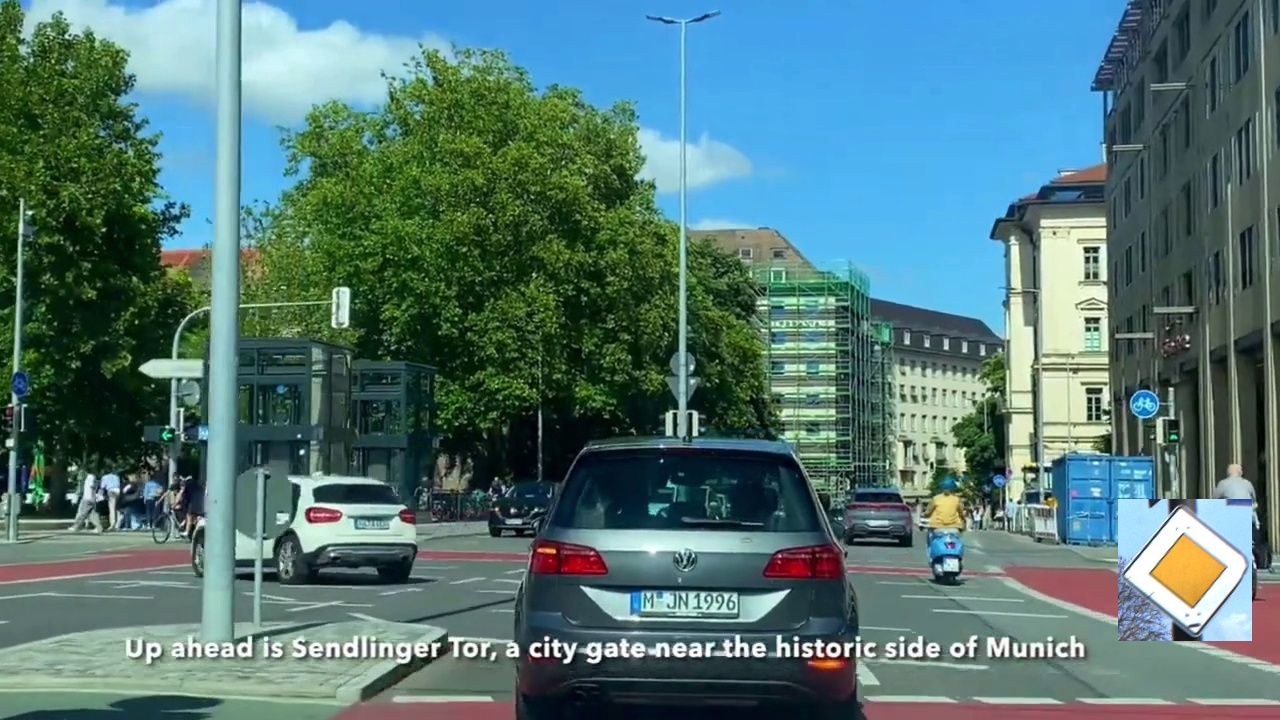Priority road: (1118, 499, 1252, 641)
